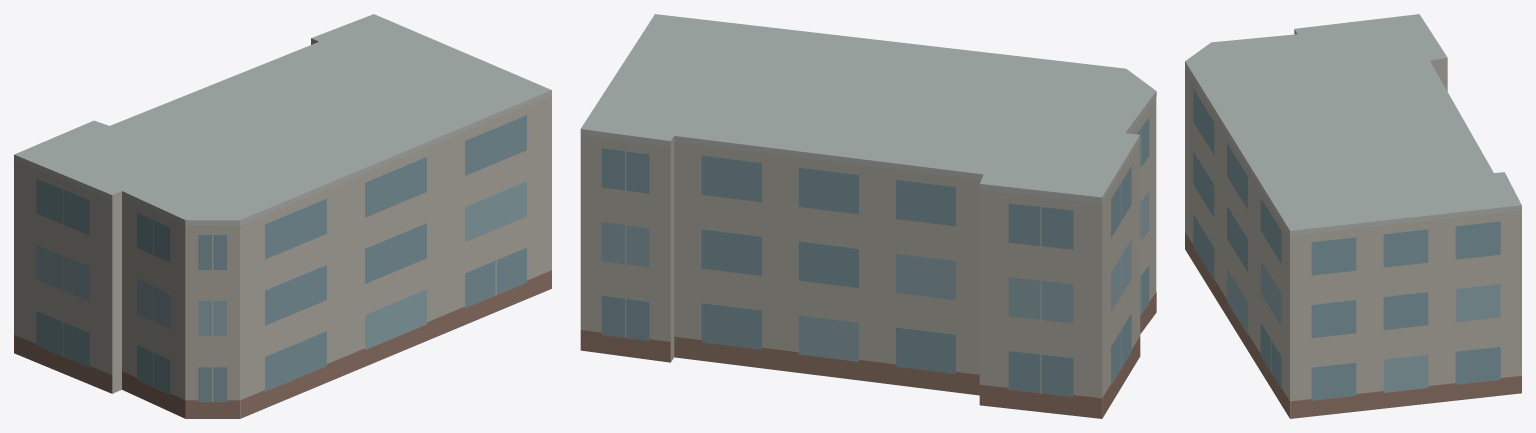
Rendered from survey-upis-32720257.glb.
3 renders of one model, left to right at view 1: azimuth 30°, elevation 25°; view 2: azimuth 150°, elevation 25°; view 3: azimuth 270°, elevation 25°, orthographic. The views are drawn at different scales.
Visible parts, largest first — view 1: survey-upis-32720257.tmp; view 2: survey-upis-32720257.tmp; view 3: survey-upis-32720257.tmp.
Part boxes in pixels (x1,y1,x2,y2): survey-upis-32720257.tmp: (14, 14, 551, 418); survey-upis-32720257.tmp: (580, 14, 1156, 418); survey-upis-32720257.tmp: (1185, 14, 1521, 418).
Size of the model in its own units: 22.64 by 9.15 by 14.86.
